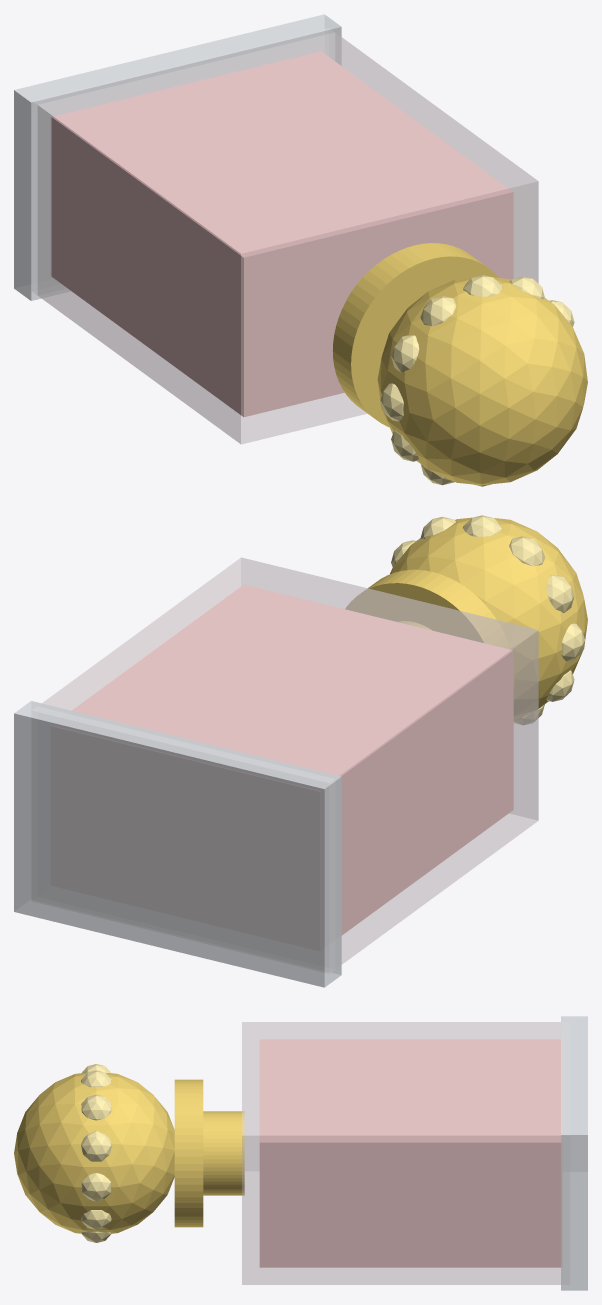
Rendered from floral_realista.glb.
3 views of the same model, one above another, from view 1: azimuth 30°, elevation 25°; view 2: azimuth 150°, elevation 25°; view 3: azimuth 270°, elevation 25° (orthographic). The views are drawn at different scales.
Visible parts, largest first — view 1: clear_glass, rose_liquid, ornamental_cap, thick_glass_base, gold_collar, cap_jewel_5, cap_jewel_4, cap_jewel_6, cap_jewel_3; view 2: clear_glass, rose_liquid, thick_glass_base, ornamental_cap, gold_collar, cap_jewel_5, cap_jewel_4, cap_jewel_6, cap_jewel_3; view 3: clear_glass, rose_liquid, ornamental_cap, thick_glass_base, gold_collar, neck, cap_jewel_1, cap_jewel_0, cap_jewel_2, cap_jewel_11, cap_jewel_3.
Boxes of the visible parts, x1,y1,x2,y2 form: clear_glass: [32, 28, 538, 444]; rose_liquid: [51, 51, 513, 416]; ornamental_cap: [377, 277, 587, 485]; thick_glass_base: [14, 14, 341, 300]; gold_collar: [332, 243, 498, 427]; cap_jewel_5: [391, 335, 419, 372]; cap_jewel_4: [420, 296, 456, 326]; cap_jewel_6: [380, 383, 403, 421]; cap_jewel_3: [463, 275, 502, 296]; clear_glass: [32, 557, 538, 973]; rose_liquid: [72, 585, 513, 935]; thick_glass_base: [14, 701, 341, 987]; ornamental_cap: [390, 517, 587, 720]; gold_collar: [345, 569, 514, 681]; cap_jewel_5: [546, 575, 574, 612]; cap_jewel_4: [509, 536, 544, 566]; cap_jewel_6: [561, 623, 585, 661]; cap_jewel_3: [463, 515, 502, 536]; clear_glass: [242, 1022, 569, 1284]; rose_liquid: [259, 1039, 560, 1267]; ornamental_cap: [14, 1073, 174, 1233]; thick_glass_base: [561, 1016, 587, 1290]; gold_collar: [174, 1079, 203, 1227]; neck: [203, 1111, 244, 1195]; cap_jewel_1: [81, 1131, 111, 1161]; cap_jewel_0: [81, 1173, 111, 1201]; cap_jewel_2: [81, 1094, 111, 1120]; cap_jewel_11: [81, 1210, 111, 1230]; cap_jewel_3: [81, 1070, 111, 1087].
Size of the model in its own units: 1.67 by 1.07 by 3.41.
